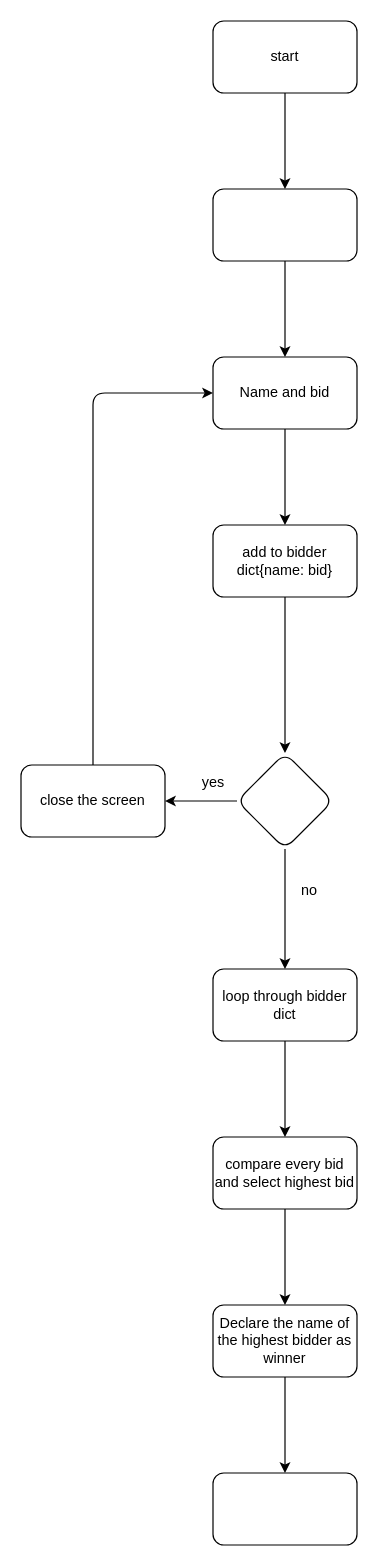
The diagram is 378 pixels wide and 1566 high, and some of its shapes have lost their labels. The centre of each missing label's shape, as x and y in pixels:
"end" belongs at (x=284, y=1508).
"more bidders?" belongs at (x=284, y=800).
"welcome" belongs at (x=284, y=224).
